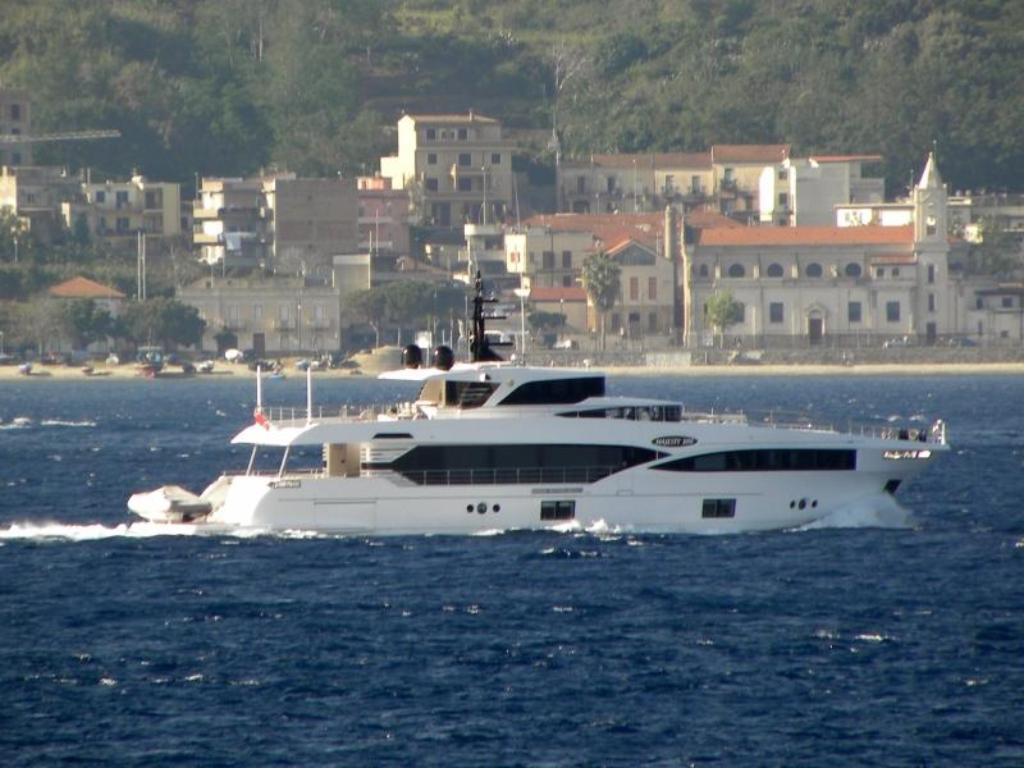PassengerShip: (123, 248, 955, 548)
